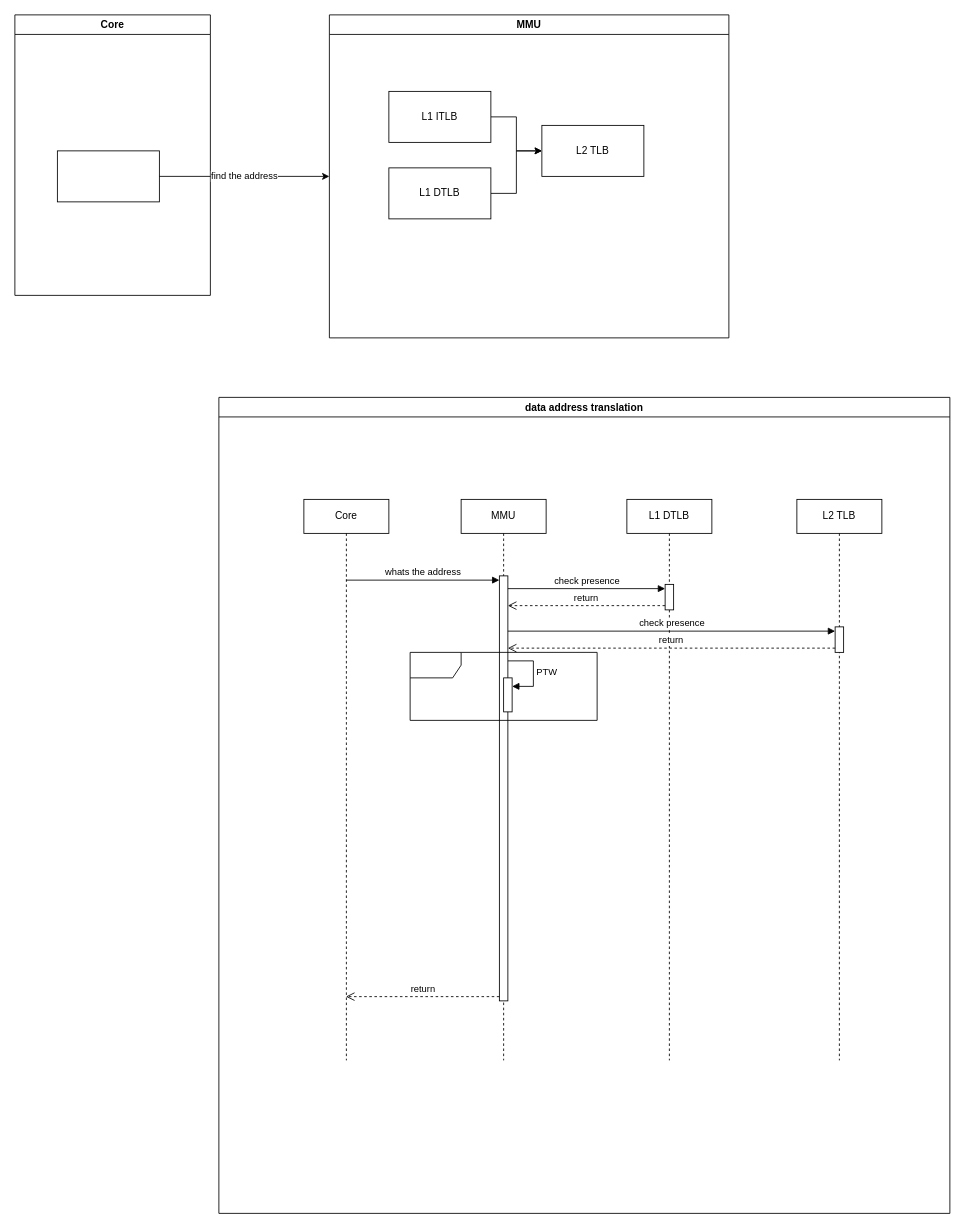
This 965x1228 diagram has some shape labels left out. Each missing label, with the centre of its shape:
"if not in TLBS" goes at point (503, 686).
"issue (AGU)" goes at point (108, 176).
